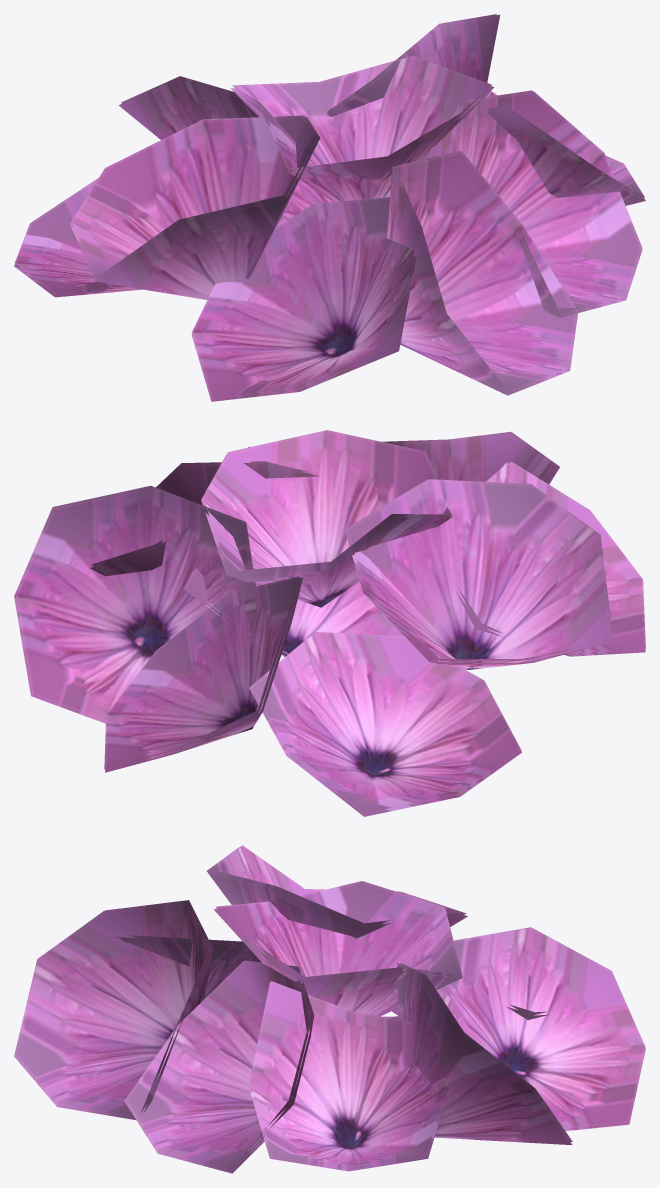
File: flower_violet_2.fbx
3 renders of one model, top to bottom at view 1: azimuth 30°, elevation 25°; view 2: azimuth 150°, elevation 25°; view 3: azimuth 270°, elevation 25°, orthographic. The views are drawn at different scales.
Visible parts, largest first — view 1: flower_violet_2; view 2: flower_violet_2; view 3: flower_violet_2.
Boxes of the visible parts, x1,y1,x2,y2 form: flower_violet_2: (14, 14, 645, 401); flower_violet_2: (14, 430, 645, 816); flower_violet_2: (14, 845, 645, 1173).
Bounding box in the file's own units: 1.24 × 0.4772 × 1.35.
